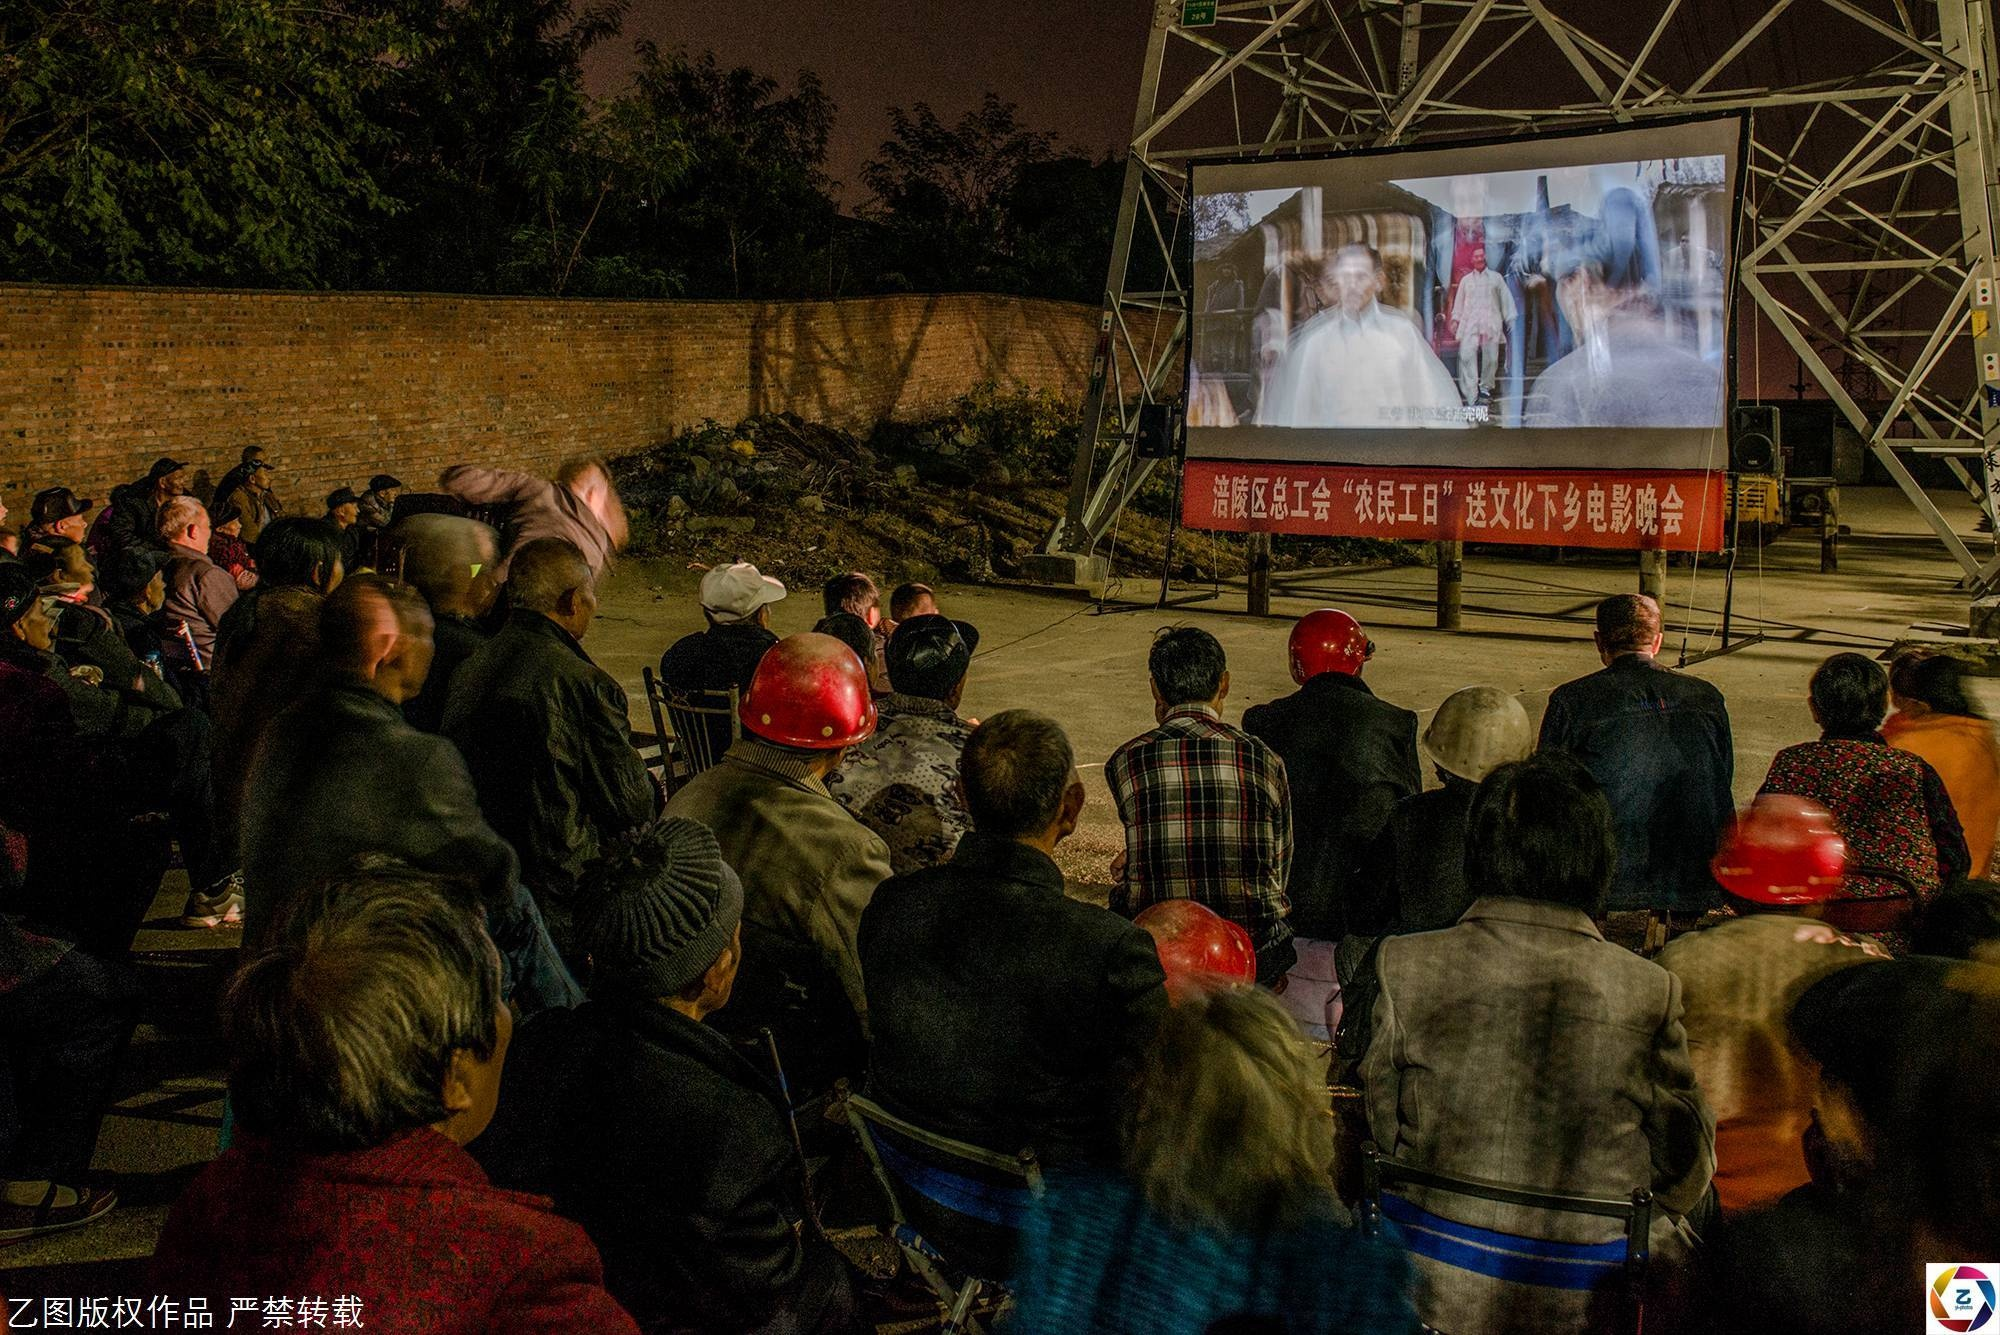none: (217, 855, 509, 1144), (1124, 983, 1331, 1216), (579, 821, 751, 1013), (1459, 752, 1611, 924), (955, 700, 1086, 843), (322, 571, 436, 700), (499, 535, 597, 639), (1141, 621, 1232, 718), (1805, 647, 1890, 743), (891, 618, 975, 706), (1585, 586, 1669, 667), (255, 516, 343, 594), (697, 559, 777, 627), (816, 565, 886, 635), (28, 536, 95, 596), (551, 451, 611, 516), (153, 493, 214, 554), (7, 583, 55, 651), (36, 486, 92, 541), (891, 580, 943, 624), (153, 459, 188, 498), (326, 487, 360, 524), (214, 504, 243, 538), (241, 457, 270, 490)
red: (743, 633, 870, 770), (1716, 793, 1841, 928), (1284, 603, 1369, 691)
white: (1424, 682, 1538, 793)
